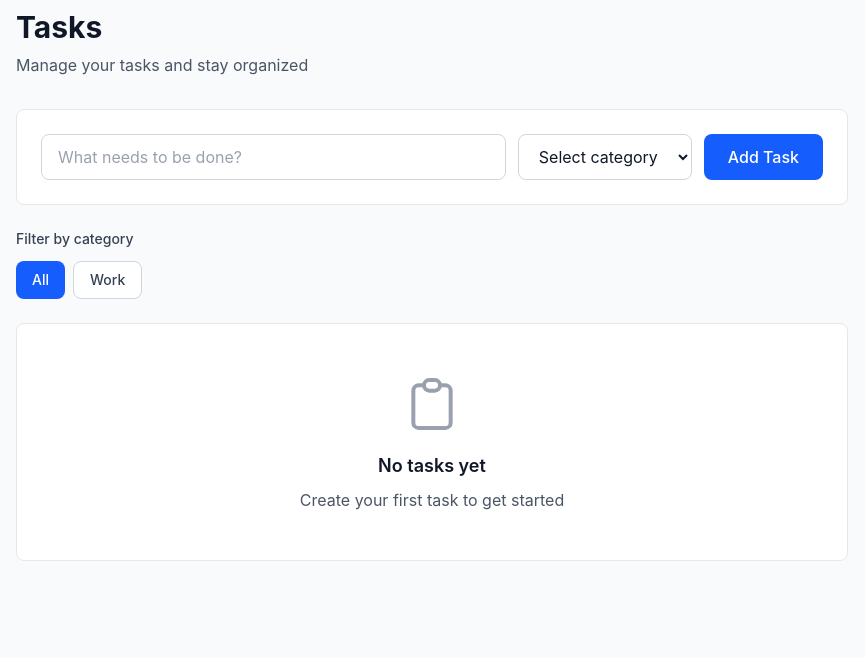
Test: App Component › should display backend validation error
Type "Test task" into the field with placeholder "What needs to be done?" at (273, 157), box [41,134,506,180]
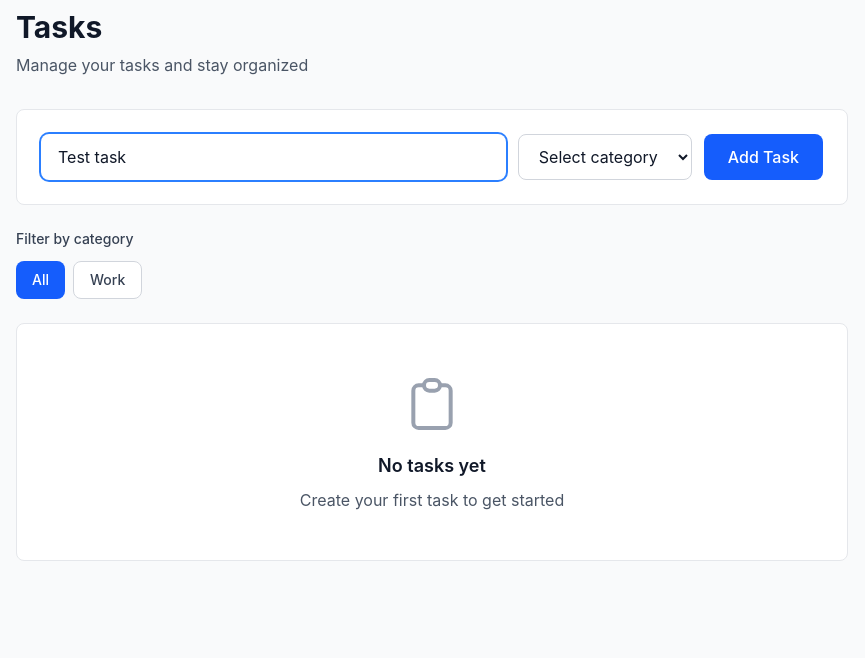
Select "Work" in the dropdown at (605, 157), box [518,134,692,180]
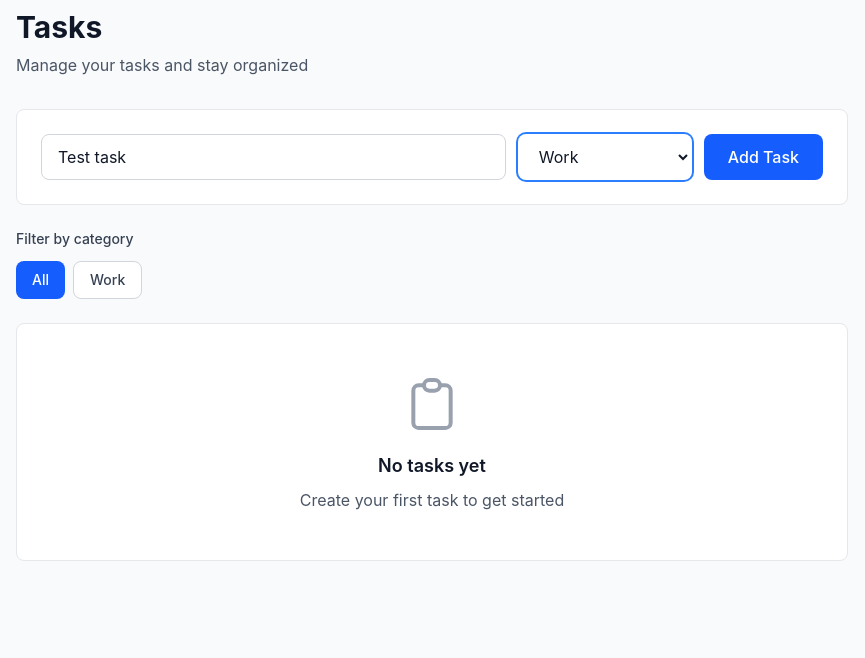
Click the button "Add Task" at (763, 157), box [704,134,823,180]
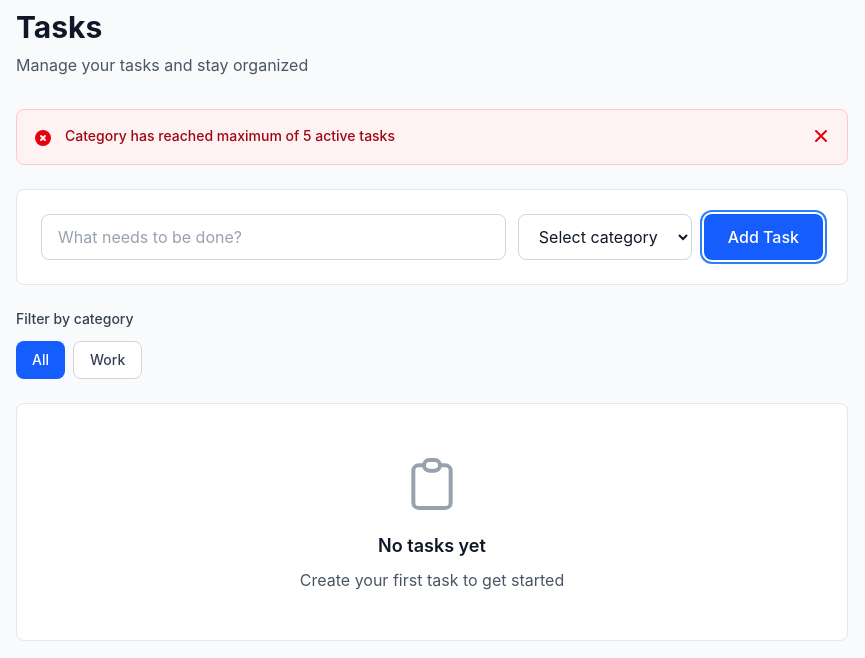
Now the text "Category has reached maximum of 5 active tasks" is shown, box [65,127,395,144]
